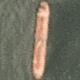ship: (0, 0, 18, 40)
